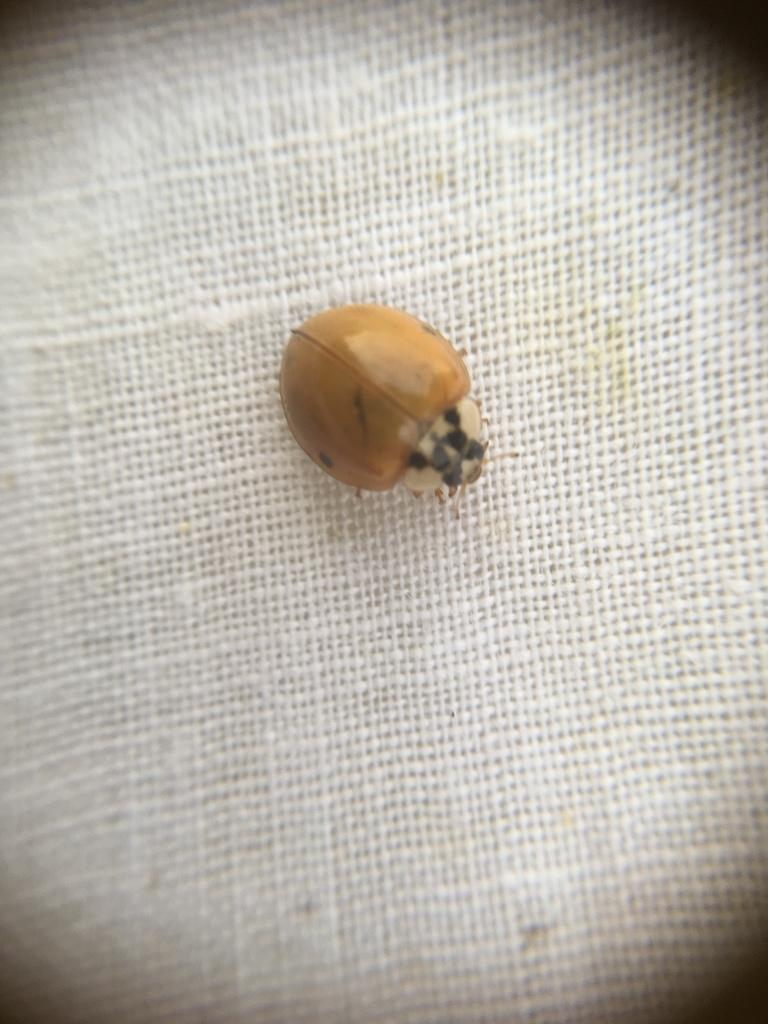ladybug: (276, 296, 499, 514)
